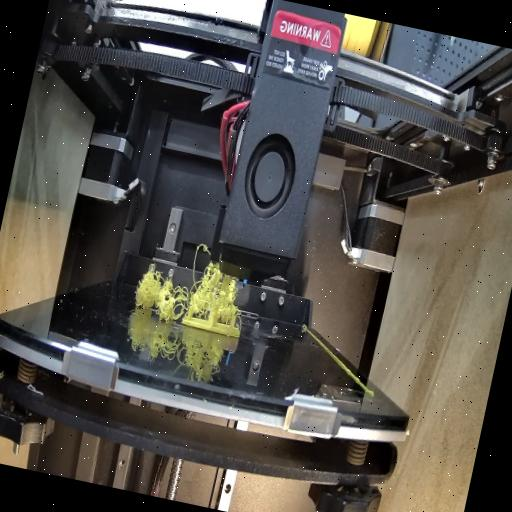spaghetti: (180, 237, 252, 321), (128, 263, 190, 325)
